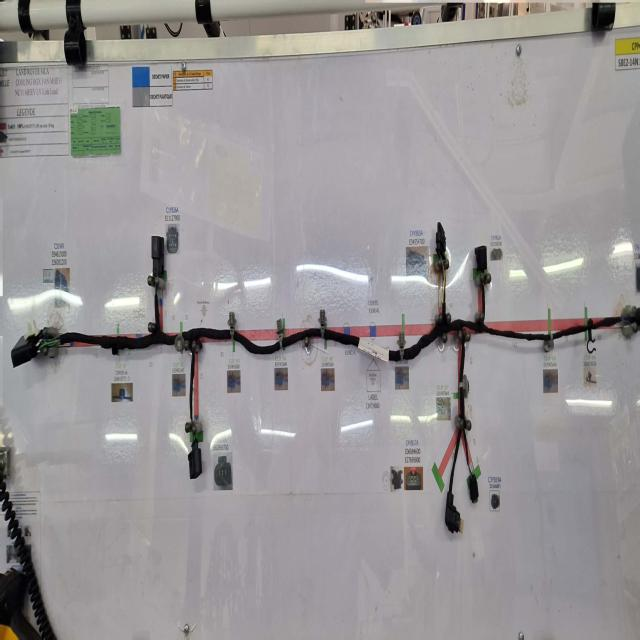Clip: (544, 321, 554, 355), (174, 328, 185, 355), (586, 319, 594, 356), (228, 311, 237, 343), (277, 316, 285, 350), (319, 306, 326, 336), (399, 331, 405, 363), (114, 336, 120, 356), (331, 311, 334, 321)
Connector: (8, 332, 37, 369), (446, 487, 463, 534), (189, 439, 204, 483), (151, 234, 163, 277), (436, 216, 446, 259), (468, 472, 478, 506), (475, 244, 486, 271), (630, 309, 640, 336)
Gape: (36, 335, 58, 354), (190, 422, 198, 446), (441, 265, 445, 313), (153, 273, 161, 294), (468, 460, 474, 479)
Info: (360, 338, 390, 365)
MHEV_N11_Cable: (58, 288, 610, 513), (608, 314, 622, 334)
